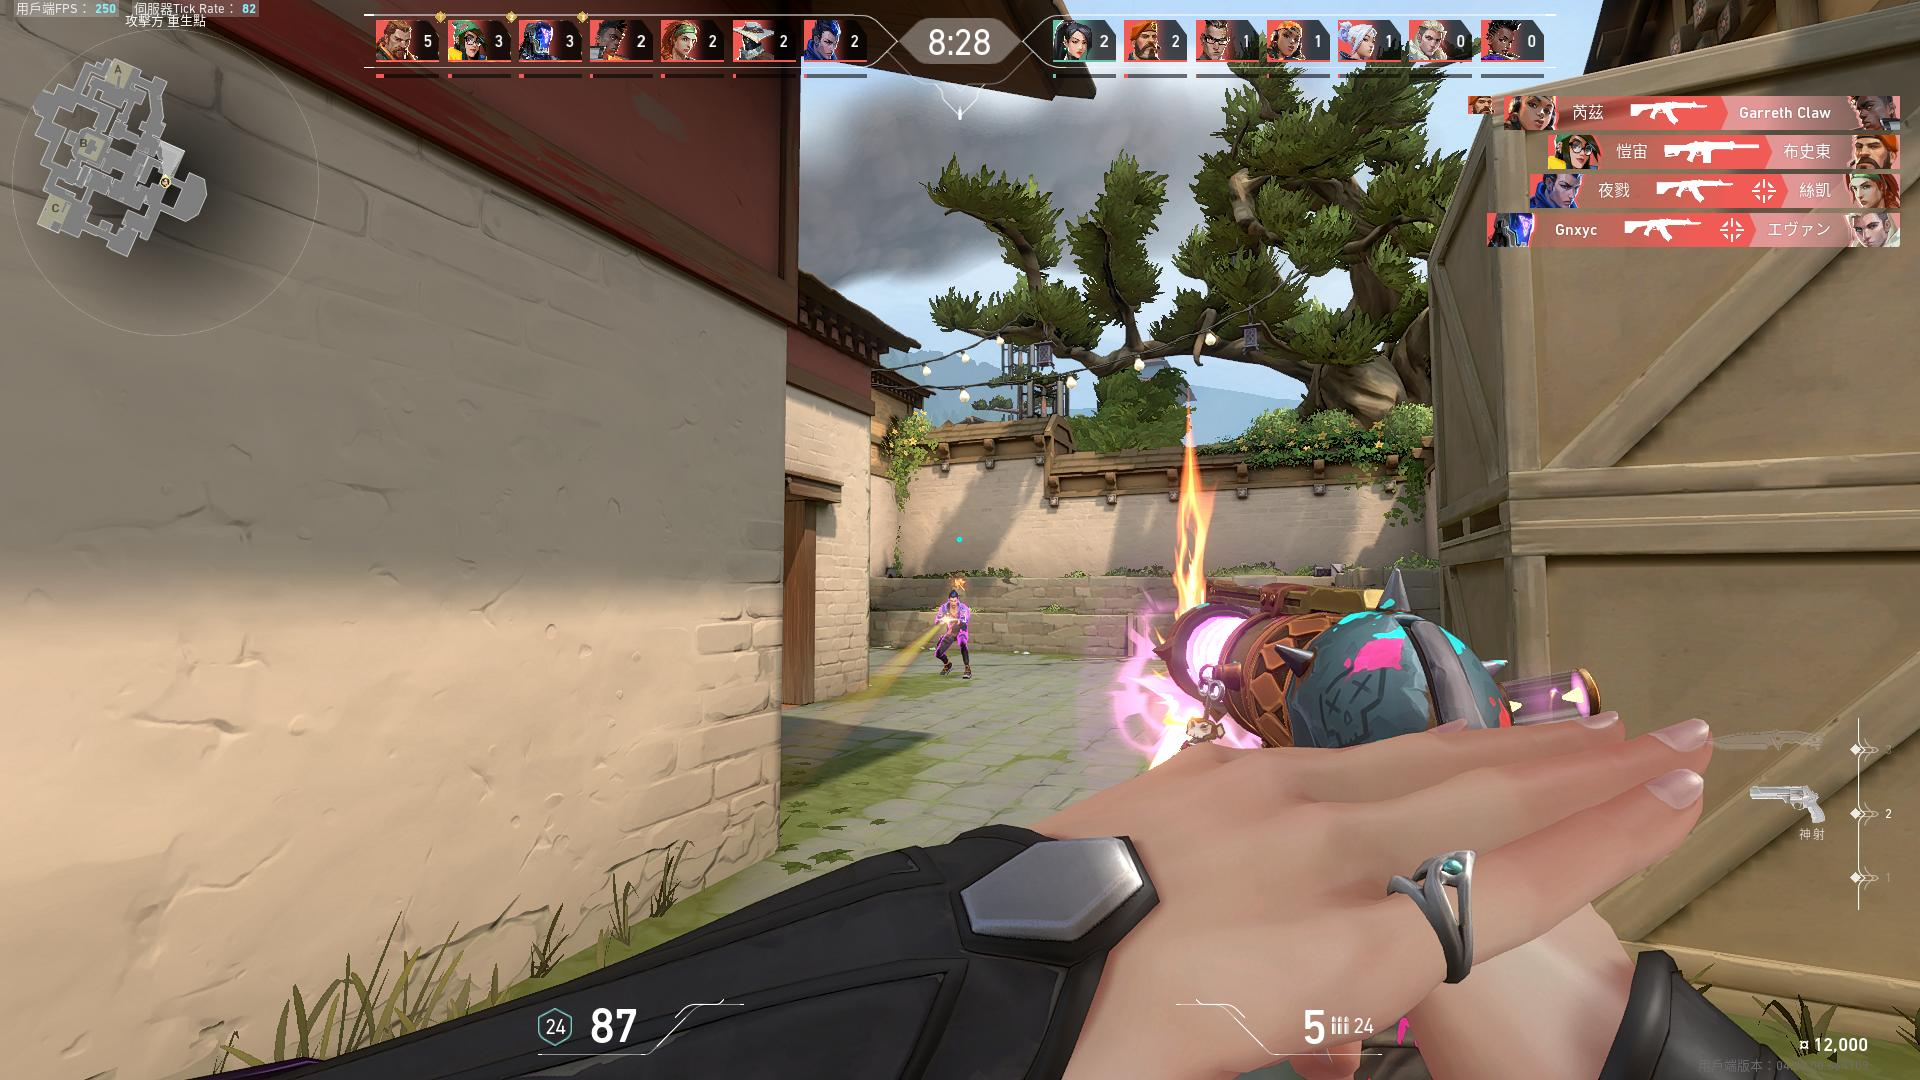enemyBody: (947, 608, 960, 633)
enemyHead: (949, 596, 957, 608)
